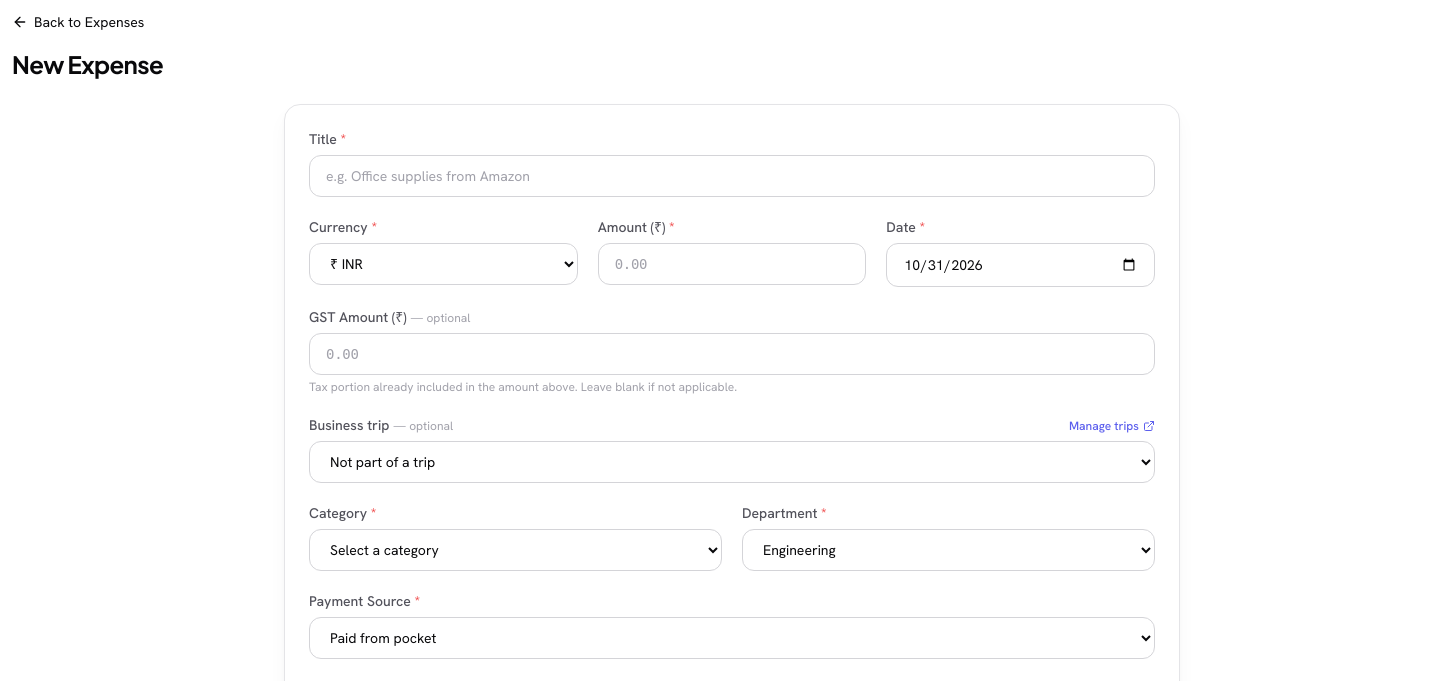
NewExpensePage business trips › suggests the trip when the date falls inside one the user travels on
Step 1. Type "2025-01-12" into the date field labelled "Date *" → x=1021, y=265, box top-left (886, 243), bottom-right (1155, 287)
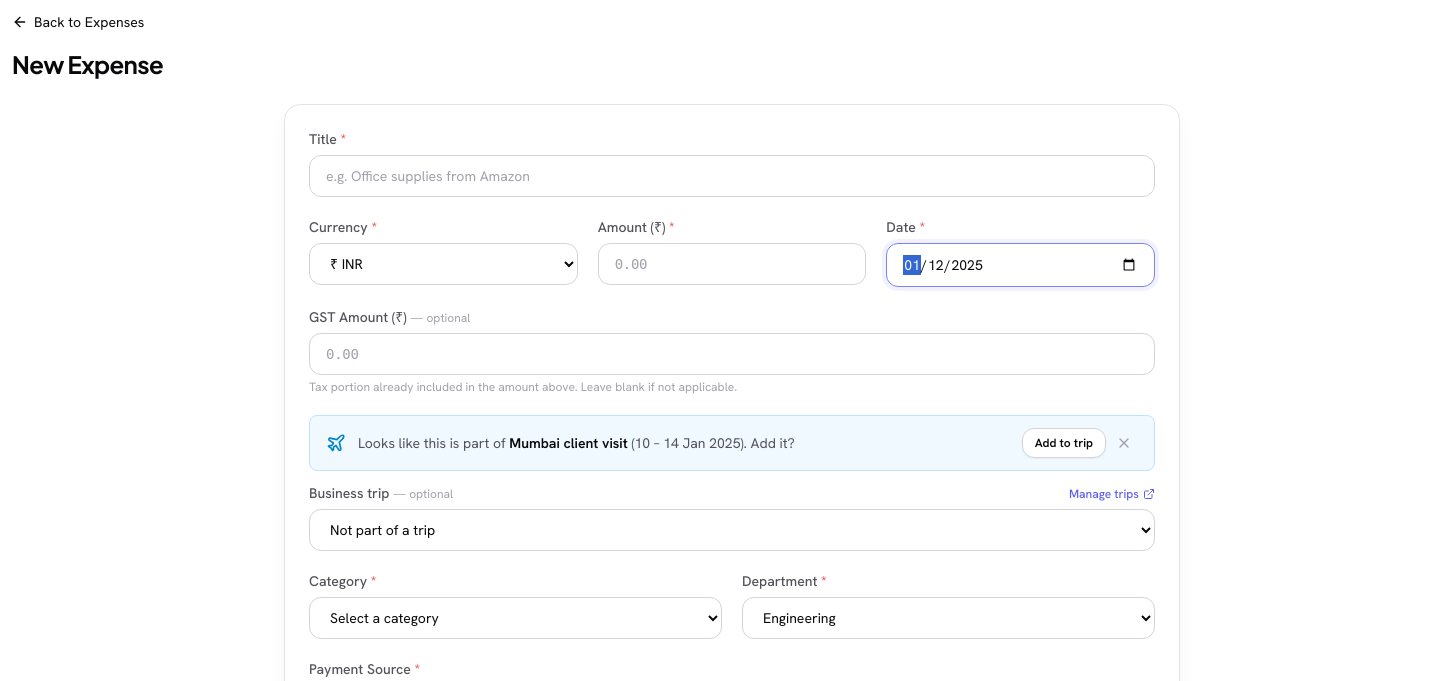
Step 2. Click the button "Add to trip" → x=1064, y=443, box top-left (1022, 428), bottom-right (1106, 458)
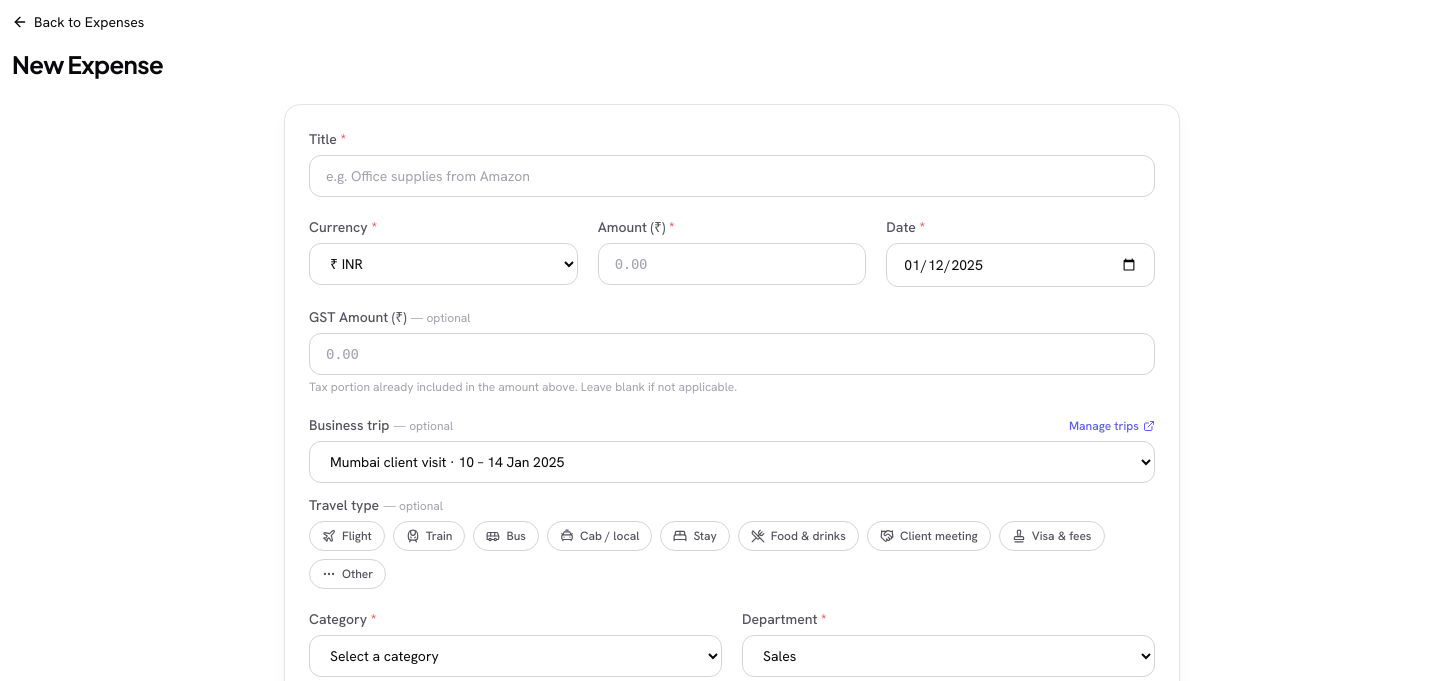
Result: the dropdown labelled "Business trip— optional" shows "Mumbai client visit · 10 – 14 Jan 2025" at top-left (309, 441), bottom-right (1155, 483)
Result: the dropdown labelled "Department *" shows "Sales" at top-left (742, 635), bottom-right (1155, 677)
